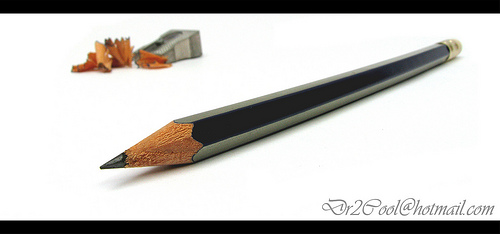pen_tip: (74, 100, 231, 178)
